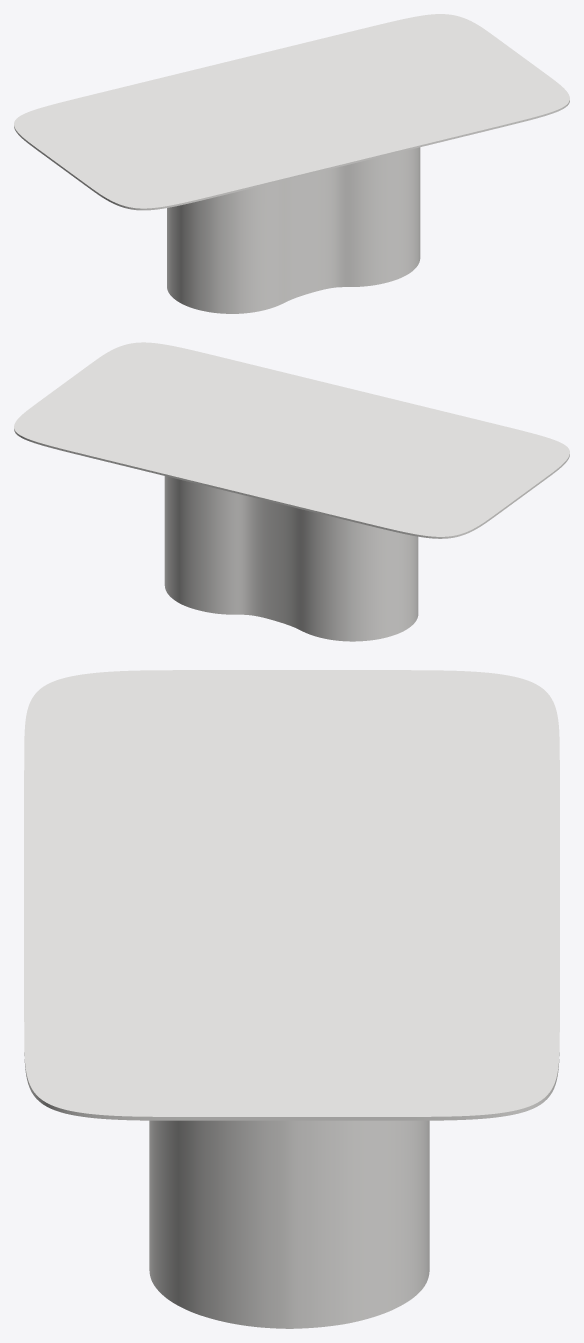
The model's file is purewhite_softrecta_facet_riverwave.glb.
3 renders of one model, top to bottom at view 1: azimuth 30°, elevation 25°; view 2: azimuth 150°, elevation 25°; view 3: azimuth 270°, elevation 25°, orthographic. The views are drawn at different scales.
Visible parts, largest first — view 1: facet_softrecta, riverwave; view 2: facet_softrecta, riverwave; view 3: facet_softrecta, riverwave.
Boxes of the visible parts, bbox=[...] form: facet_softrecta: bbox=[14, 14, 569, 210]; riverwave: bbox=[167, 147, 420, 313]; facet_softrecta: bbox=[14, 342, 569, 538]; riverwave: bbox=[164, 476, 418, 641]; facet_softrecta: bbox=[24, 670, 559, 1120]; riverwave: bbox=[149, 1120, 429, 1328].
Bounding box in the file's own units: 7.5 × 2.5 × 3.8.
1 material, 1 textured.
